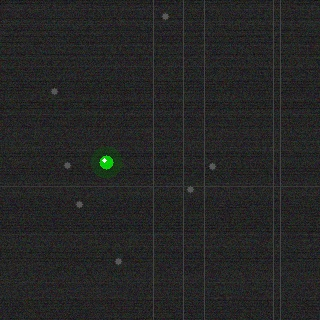green_normal: (97, 153, 115, 171)
